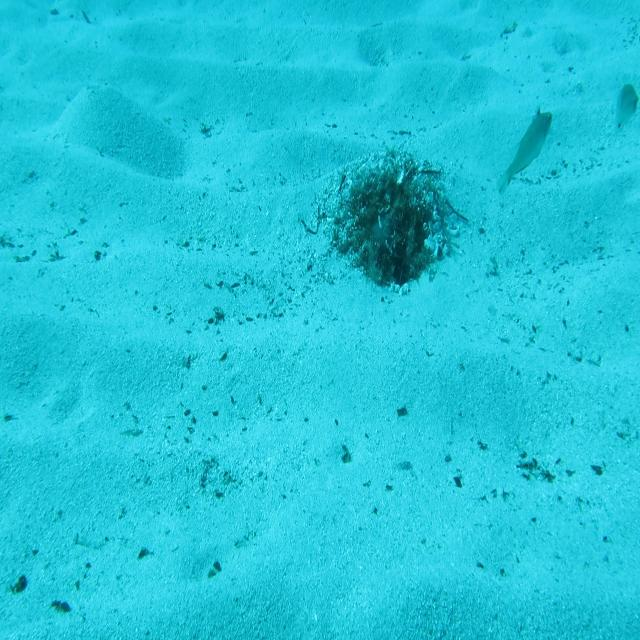MAF: (490, 102, 558, 202)
female: (605, 77, 640, 139)
nest: (321, 148, 467, 295)
